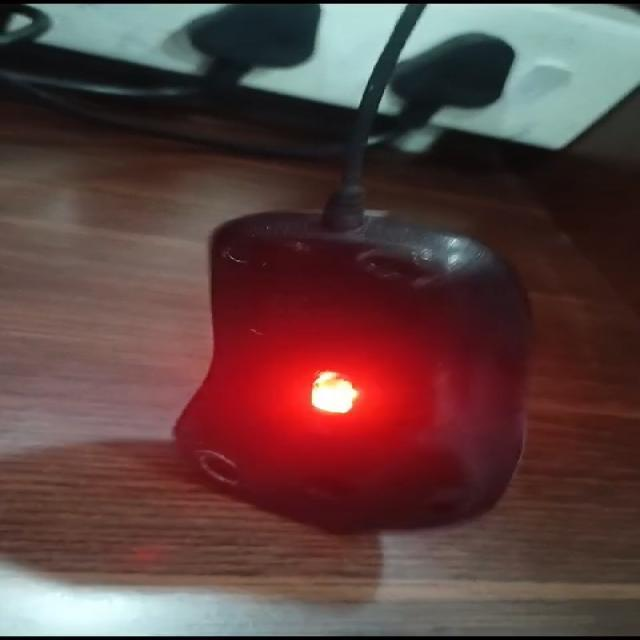mouse: (128, 146, 554, 566)
